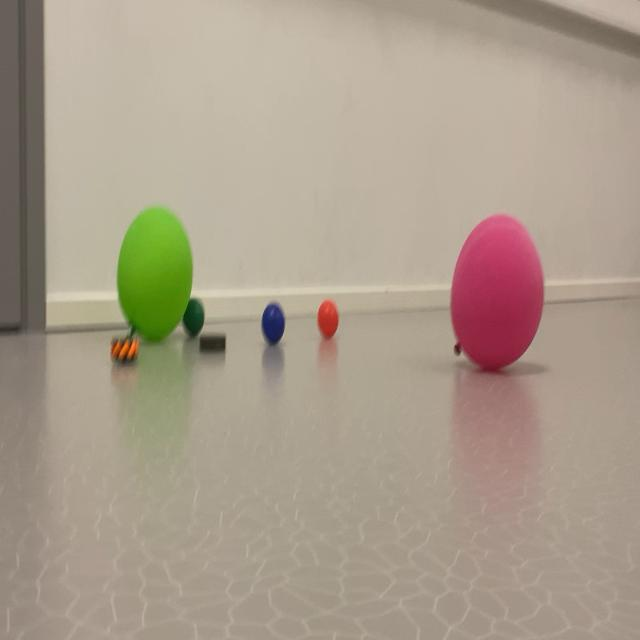6: (253, 264, 353, 373)
7: (314, 289, 347, 352)
green ball: (235, 214, 282, 357)
red ball: (179, 294, 216, 342)
